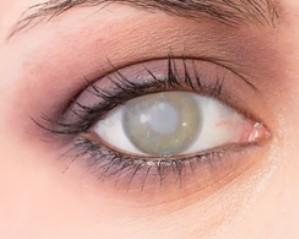eye: (123, 90, 203, 156)
